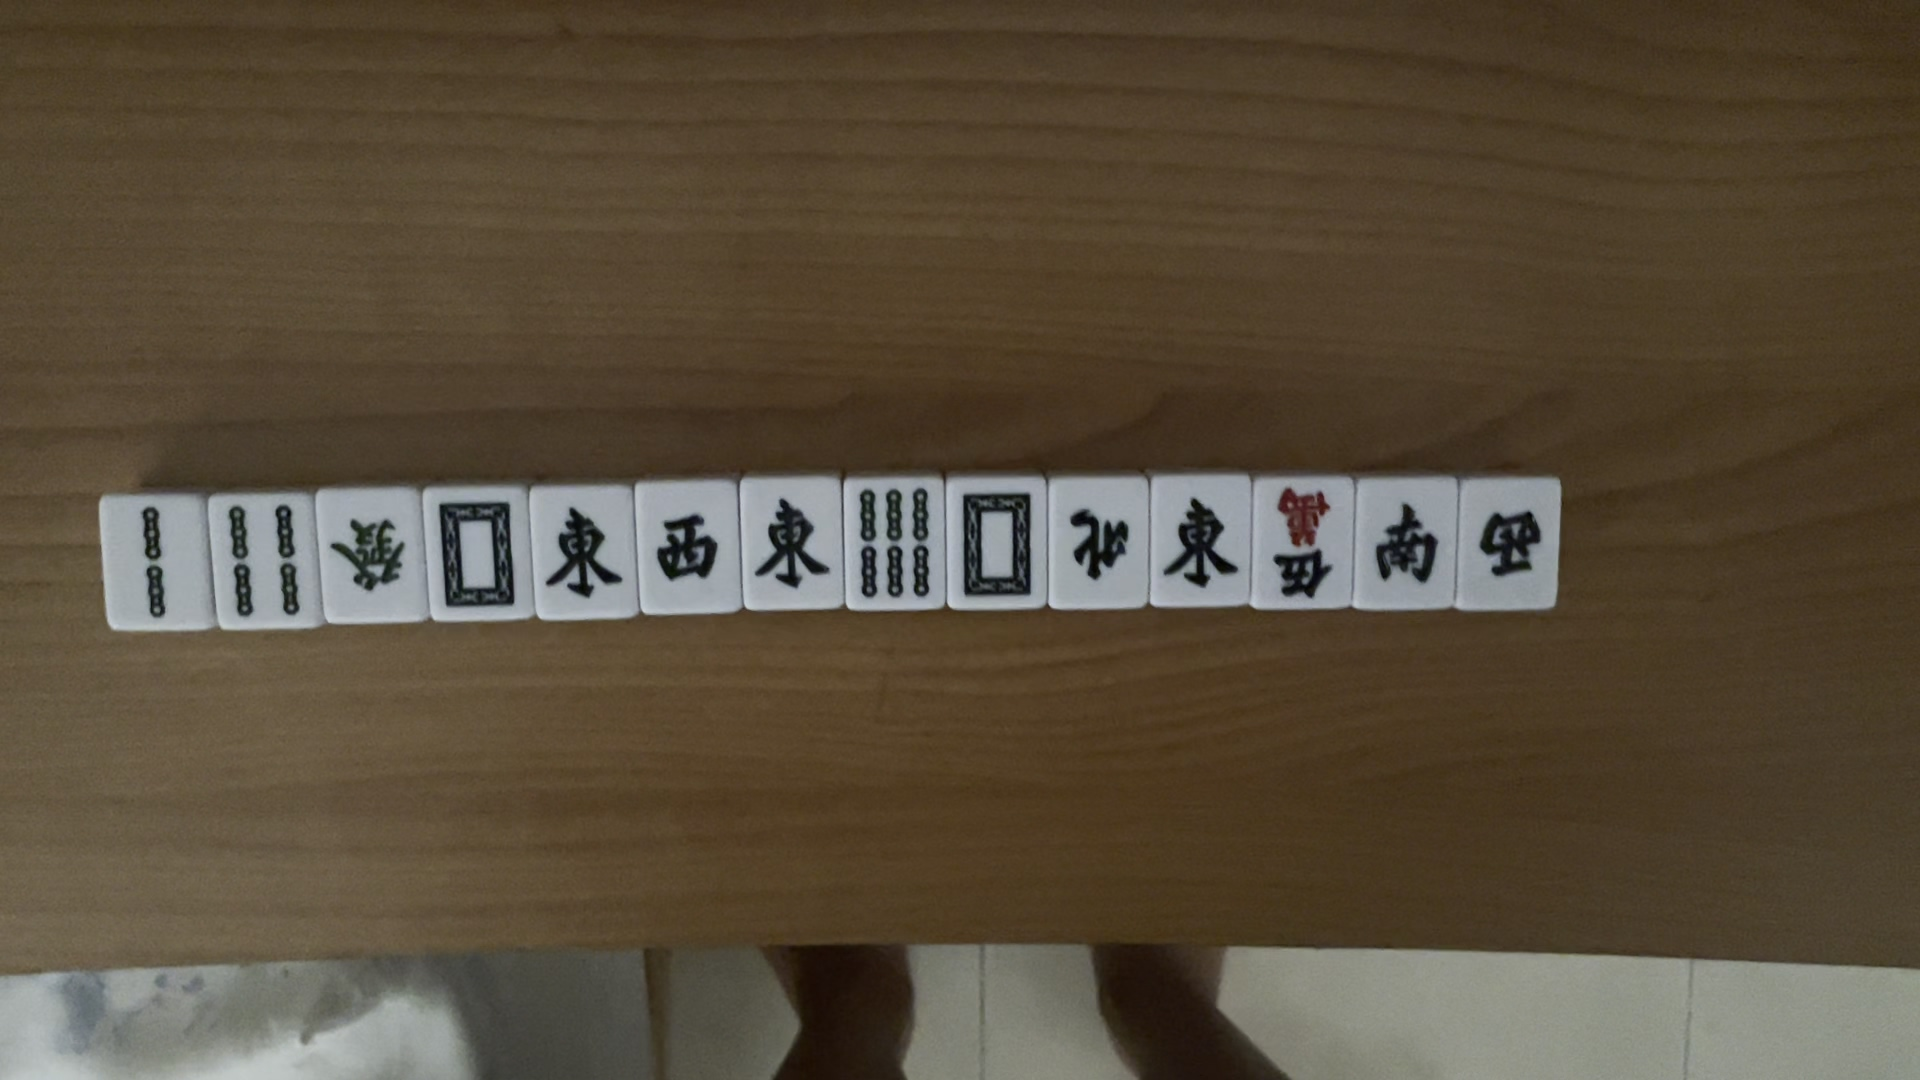b-2: (117, 501, 183, 624)
b-4: (223, 498, 307, 622)
b-6: (844, 480, 935, 605)
c-5: (1265, 480, 1333, 605)
honors-east: (533, 498, 629, 607), (742, 493, 836, 601), (1160, 495, 1238, 595)
honors-green: (326, 509, 411, 603)
honors-north: (1052, 498, 1139, 595)
honors-south: (1370, 495, 1443, 595)
honors-west: (1473, 498, 1544, 589), (645, 505, 723, 588)
honors-white: (431, 498, 520, 615), (953, 483, 1039, 601)
